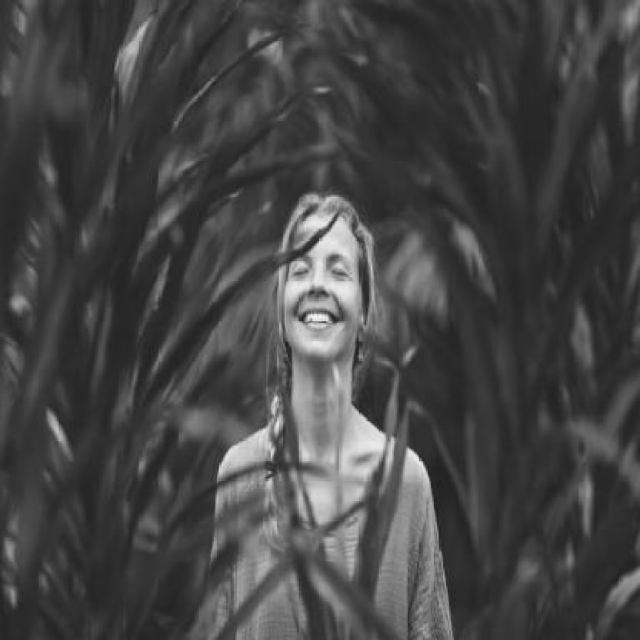happy: (288, 247, 352, 341)
